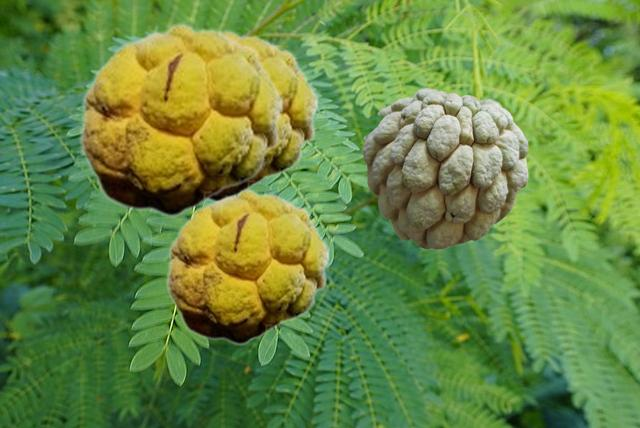atis: (78, 22, 283, 216), (362, 88, 527, 248), (165, 188, 329, 344), (210, 29, 318, 202)
